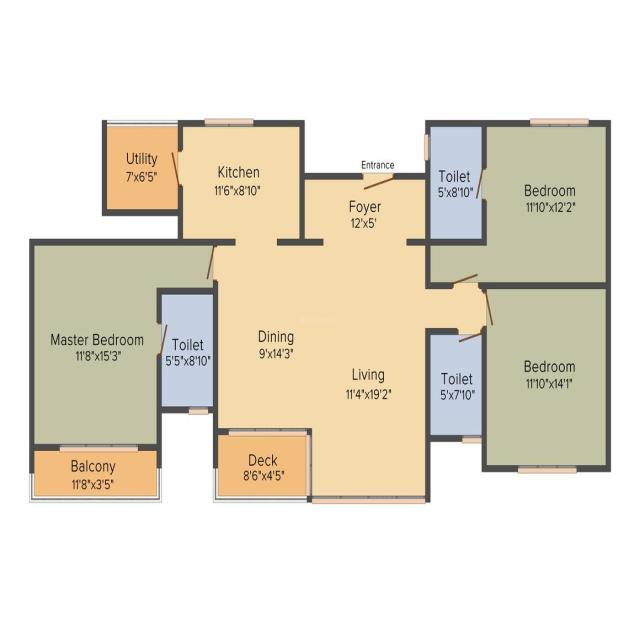Balcony-Sitout: (33, 449, 159, 498)
Bedroom: (484, 286, 608, 466)
Bedroom with Toilet: (32, 242, 216, 446), (428, 124, 607, 284)
Enterance-Foyer: (303, 158, 427, 241)
Kitchen: (181, 123, 302, 240)
Living: (310, 242, 427, 497)
Toilet: (161, 293, 214, 407), (430, 126, 482, 239), (430, 332, 482, 436)
Utility: (105, 124, 179, 211)
